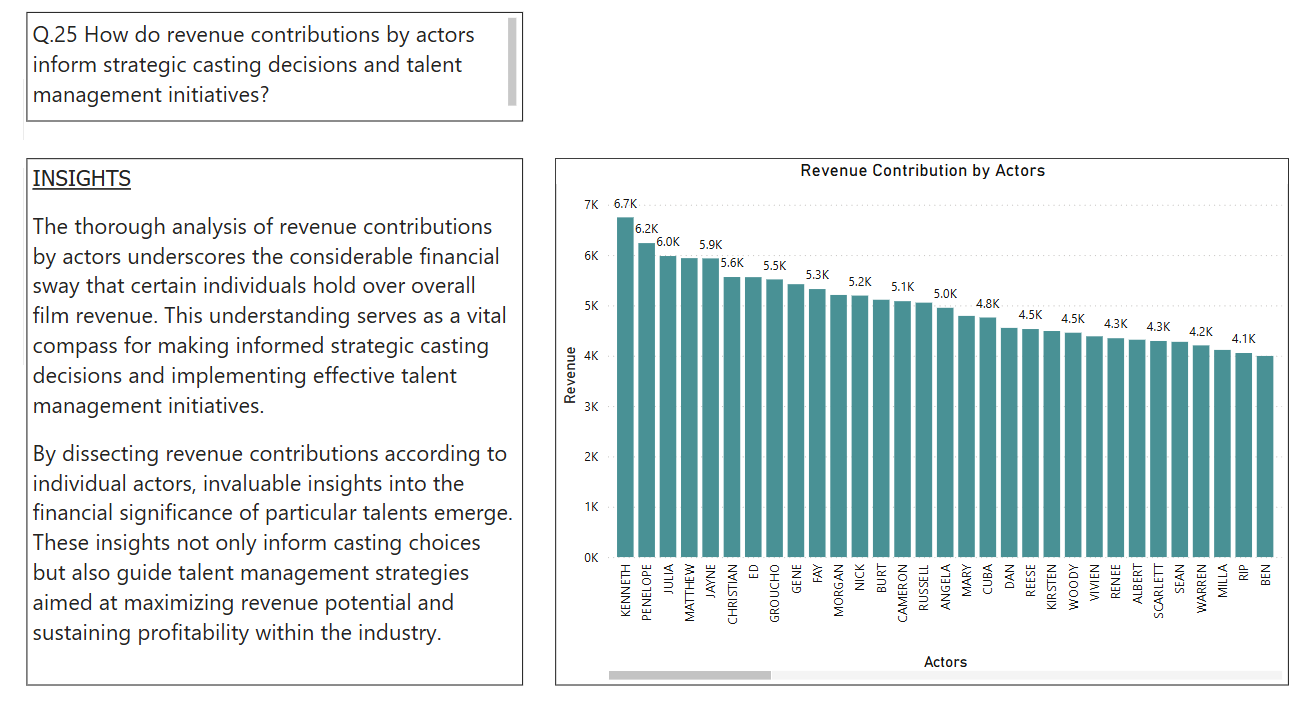

The dashboard page shown, as its layout file describes it:
{"tool":"powerbi","page":{"name":"Q25","canvas":[1280,720],"ordinal":30},"visuals":[{"type":"textbox","box":[36,19.8,479.1,105.8],"z":0},{"type":"textbox","box":[36.2,160.5,479,509.1],"z":1000},{"type":"columnChart","title":"Revenue Contribution by Actors","fields":{"Category":["actor.first_name"],"Y":["payment.Revenue"]},"box":[546.5,160.5,708.2,509.1],"z":2000}]}

Visuals, with their boxes in screenshot pixels (x1, y1, x2, y2), scaled from the page's 1280x720 canvas onto the 1313x722 screenshot:
textbox: <bbox>37, 20, 528, 126</bbox>
textbox: <bbox>37, 161, 528, 671</bbox>
"Revenue Contribution by Actors" columnChart: <bbox>561, 161, 1287, 671</bbox>
